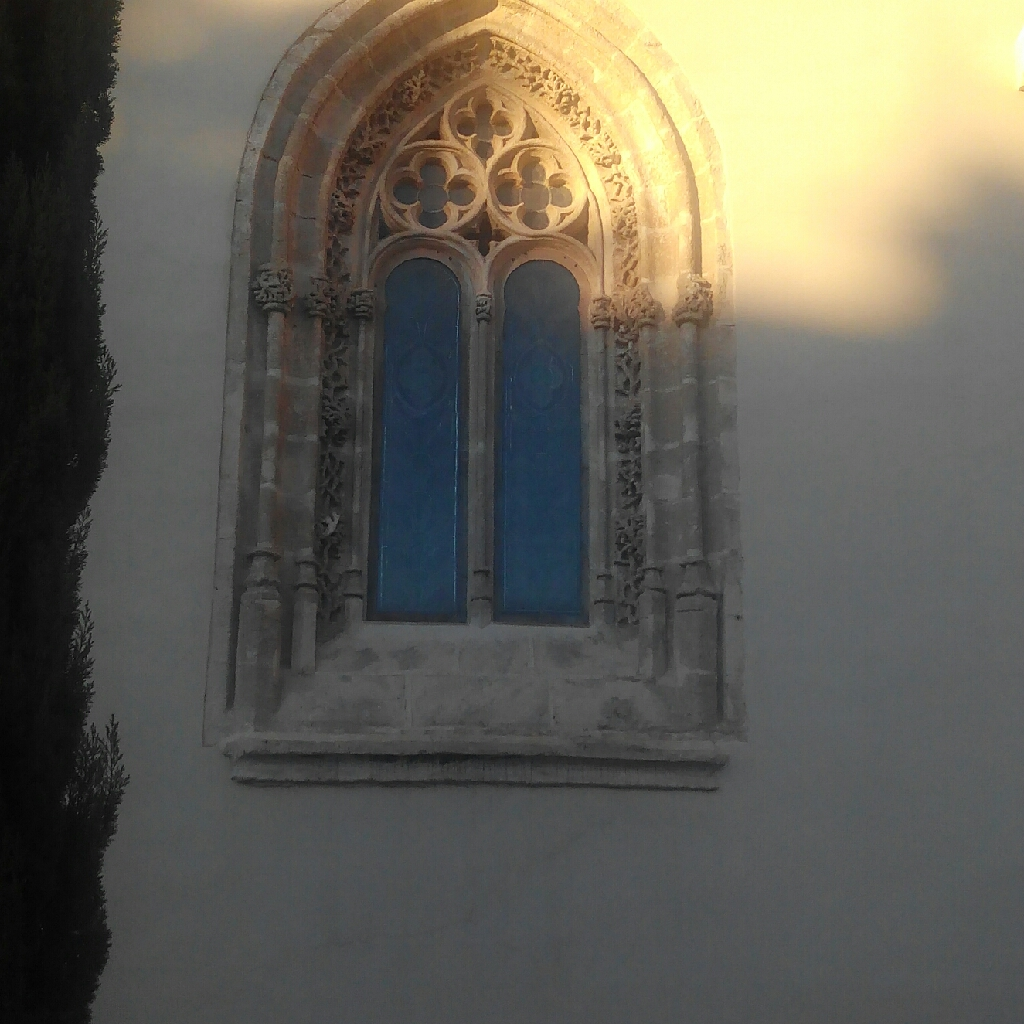arco-apuntado: (305, 8, 657, 273)
